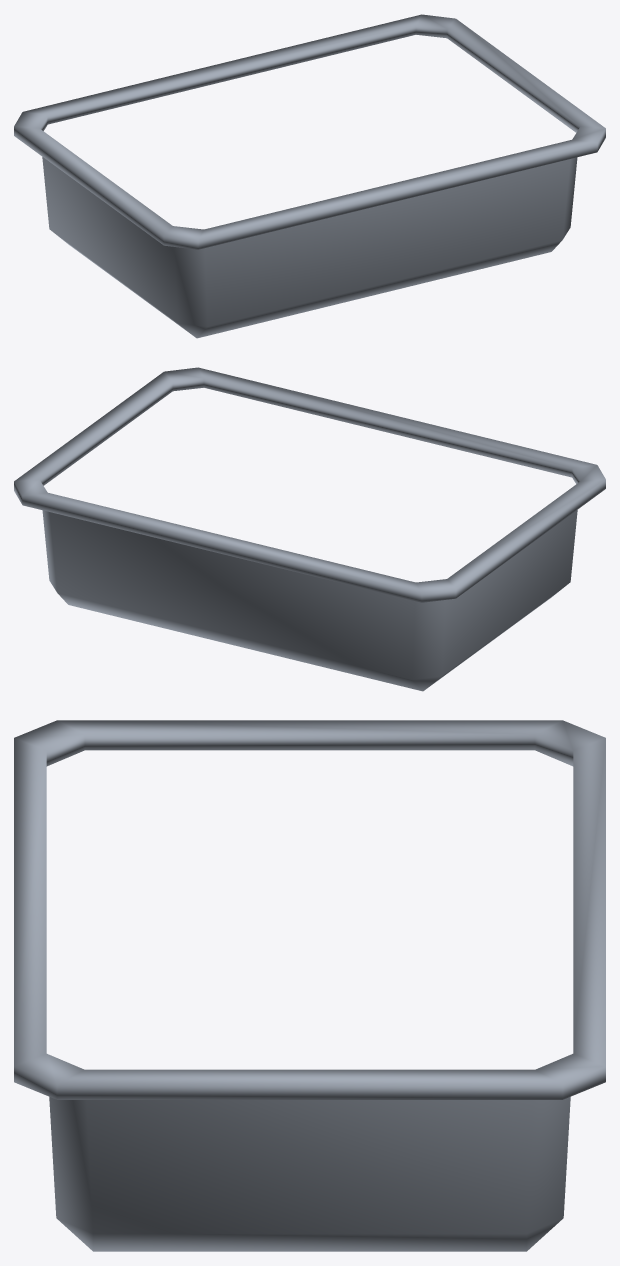
File: Loaf Pan by MilkAndBanana - luvlYXV427.glb
The picture shows the model from 3 angles, top to bottom: view 1: azimuth 30°, elevation 25°; view 2: azimuth 150°, elevation 25°; view 3: azimuth 270°, elevation 25°; orthographic projection. The views are drawn at different scales.
Visible parts, largest first — view 1: loaf_pan_Cube.018; view 2: loaf_pan_Cube.018; view 3: loaf_pan_Cube.018.
Boxes of the visible parts, x1=… form: loaf_pan_Cube.018: x1=14, y1=14, x2=605, y2=338; loaf_pan_Cube.018: x1=14, y1=367, x2=605, y2=691; loaf_pan_Cube.018: x1=14, y1=720, x2=605, y2=1251.
Size of the model in its own units: 8.24 by 2.15 by 5.67.
1 material, 1 textured.
